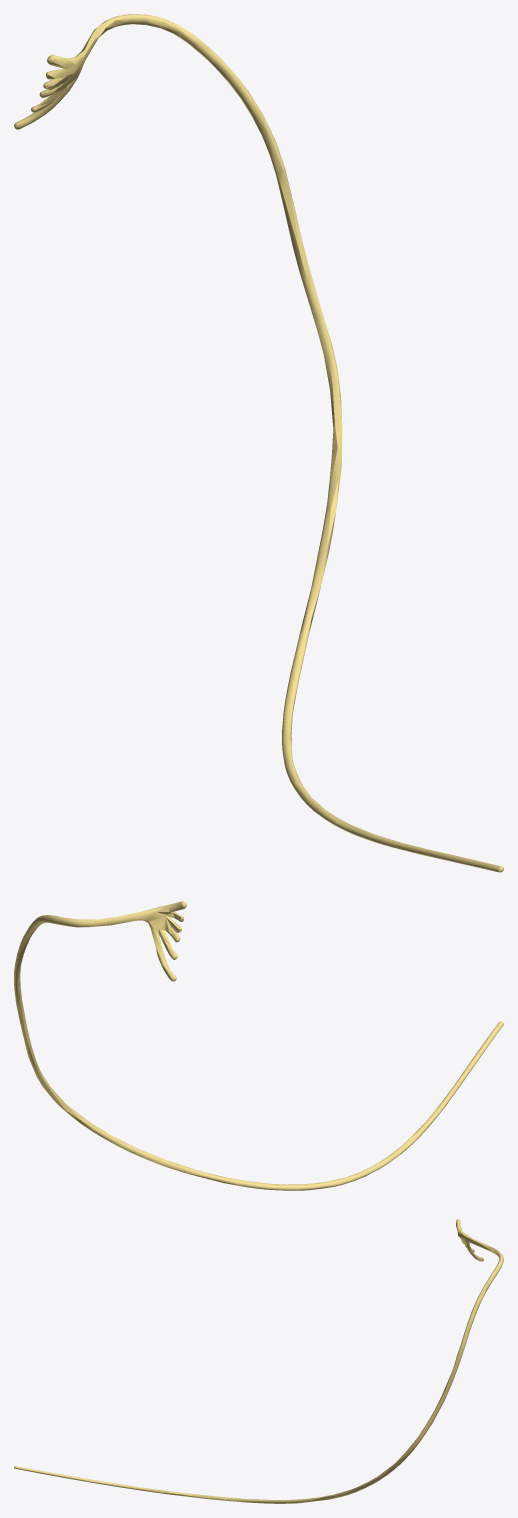
File: fma80483_fj3941.glb
The picture shows the model from 3 angles, top to bottom: view 1: azimuth 30°, elevation 25°; view 2: azimuth 150°, elevation 25°; view 3: azimuth 270°, elevation 25°; orthographic projection. The views are drawn at different scales.
Parts seen in each view (by area): view 1: FMA80483_FJ3941; view 2: FMA80483_FJ3941; view 3: FMA80483_FJ3941.
Boxes of the visible parts, box(x1,y1,x2,y2) form: FMA80483_FJ3941: box(14, 14, 503, 872); FMA80483_FJ3941: box(14, 901, 503, 1190); FMA80483_FJ3941: box(14, 1219, 503, 1503).
Bounding box in the file's own units: 0.0255 × 0.0534 × 0.0848.
